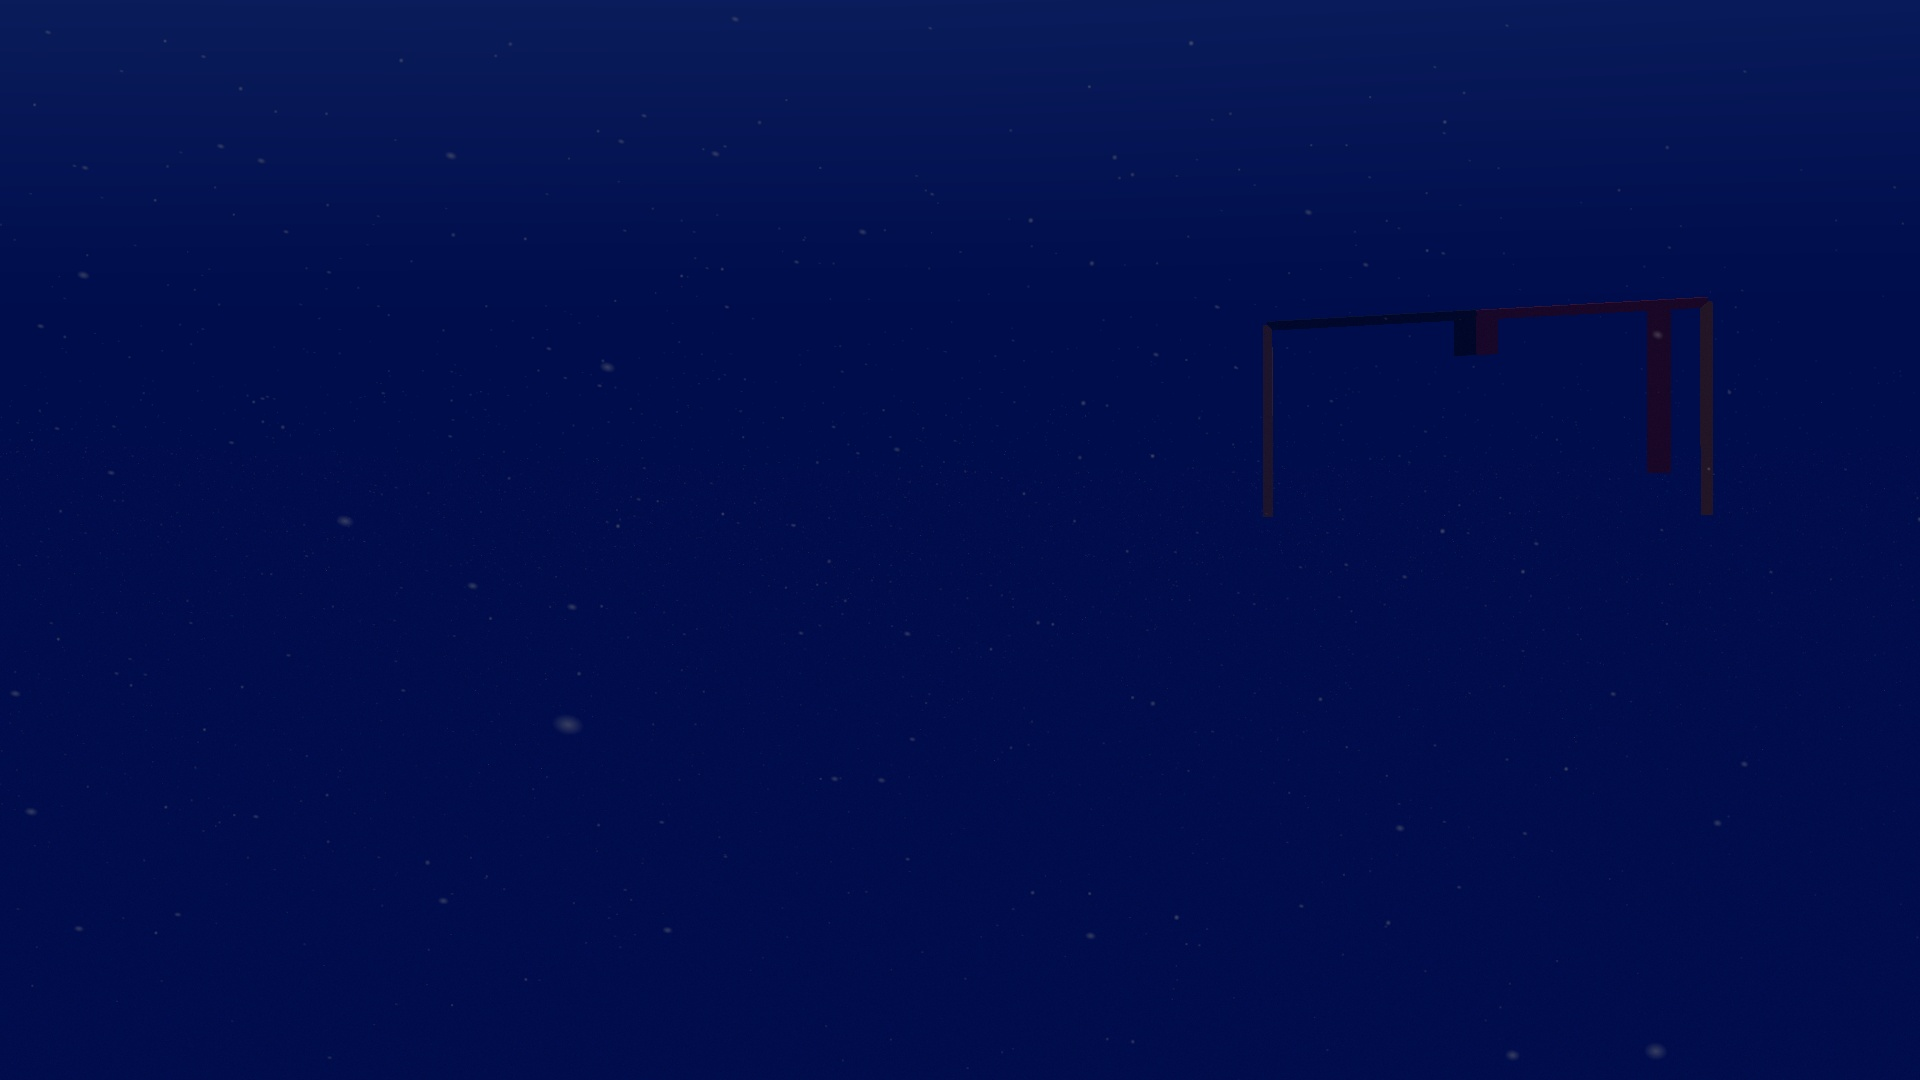Gate: (1255, 291, 1722, 527)
